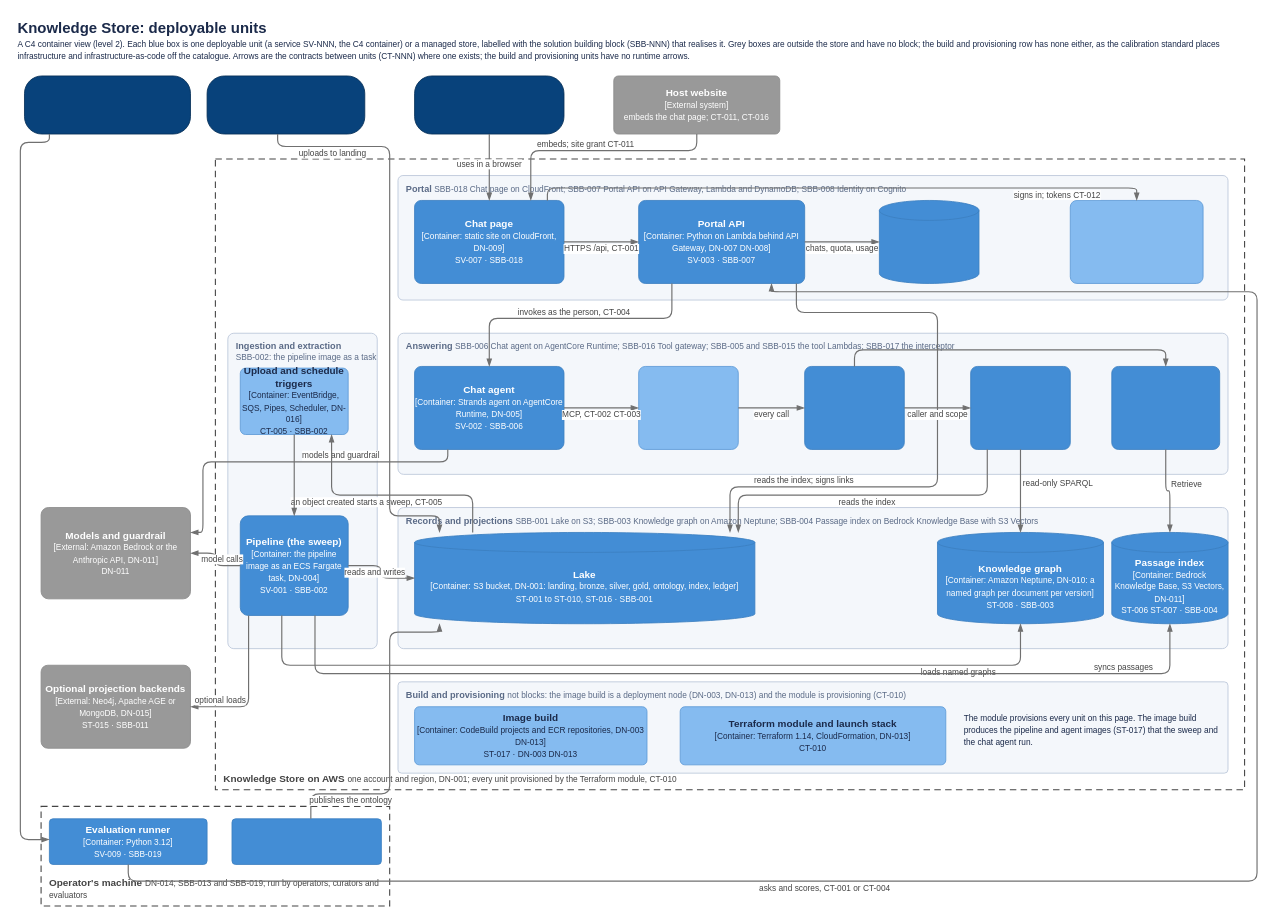
This 1279x920 diagram has some shape labels left out. The shapes that lost their labels are listed below. From the top down, each one's centre as x and y in pixels, then its label:
pixel 107 104: Operator / evaluator [Person] applies the module, runs sweeps, scores answers
pixel 285 104: Curator [Person] loads documents, publishes the ontology
pixel 489 104: Reader [Person] asks and reads within scope
pixel 929 241: Chat state [Container: DynamoDB table] ST-011 · SBB-007
pixel 1136 241: Identity [Container: Cognito user pool] DN-012 · SBB-008
pixel 688 407: AgentCore Gateway [Container: managed MCP front, DN-006] DN-006 · SBB-016
pixel 854 407: Gateway interceptor [Container: Python on Lambda] SV-006 · SBB-017
pixel 1020 407: Graph tools [Container: Python on Lambda, in the VPC] SV-004 · SBB-005
pixel 1165 407: Passage tools [Container: Python on Lambda] SV-005 · SBB-015
pixel 306 841: Command line [Container: Python 3.12] SV-008 · SBB-013
